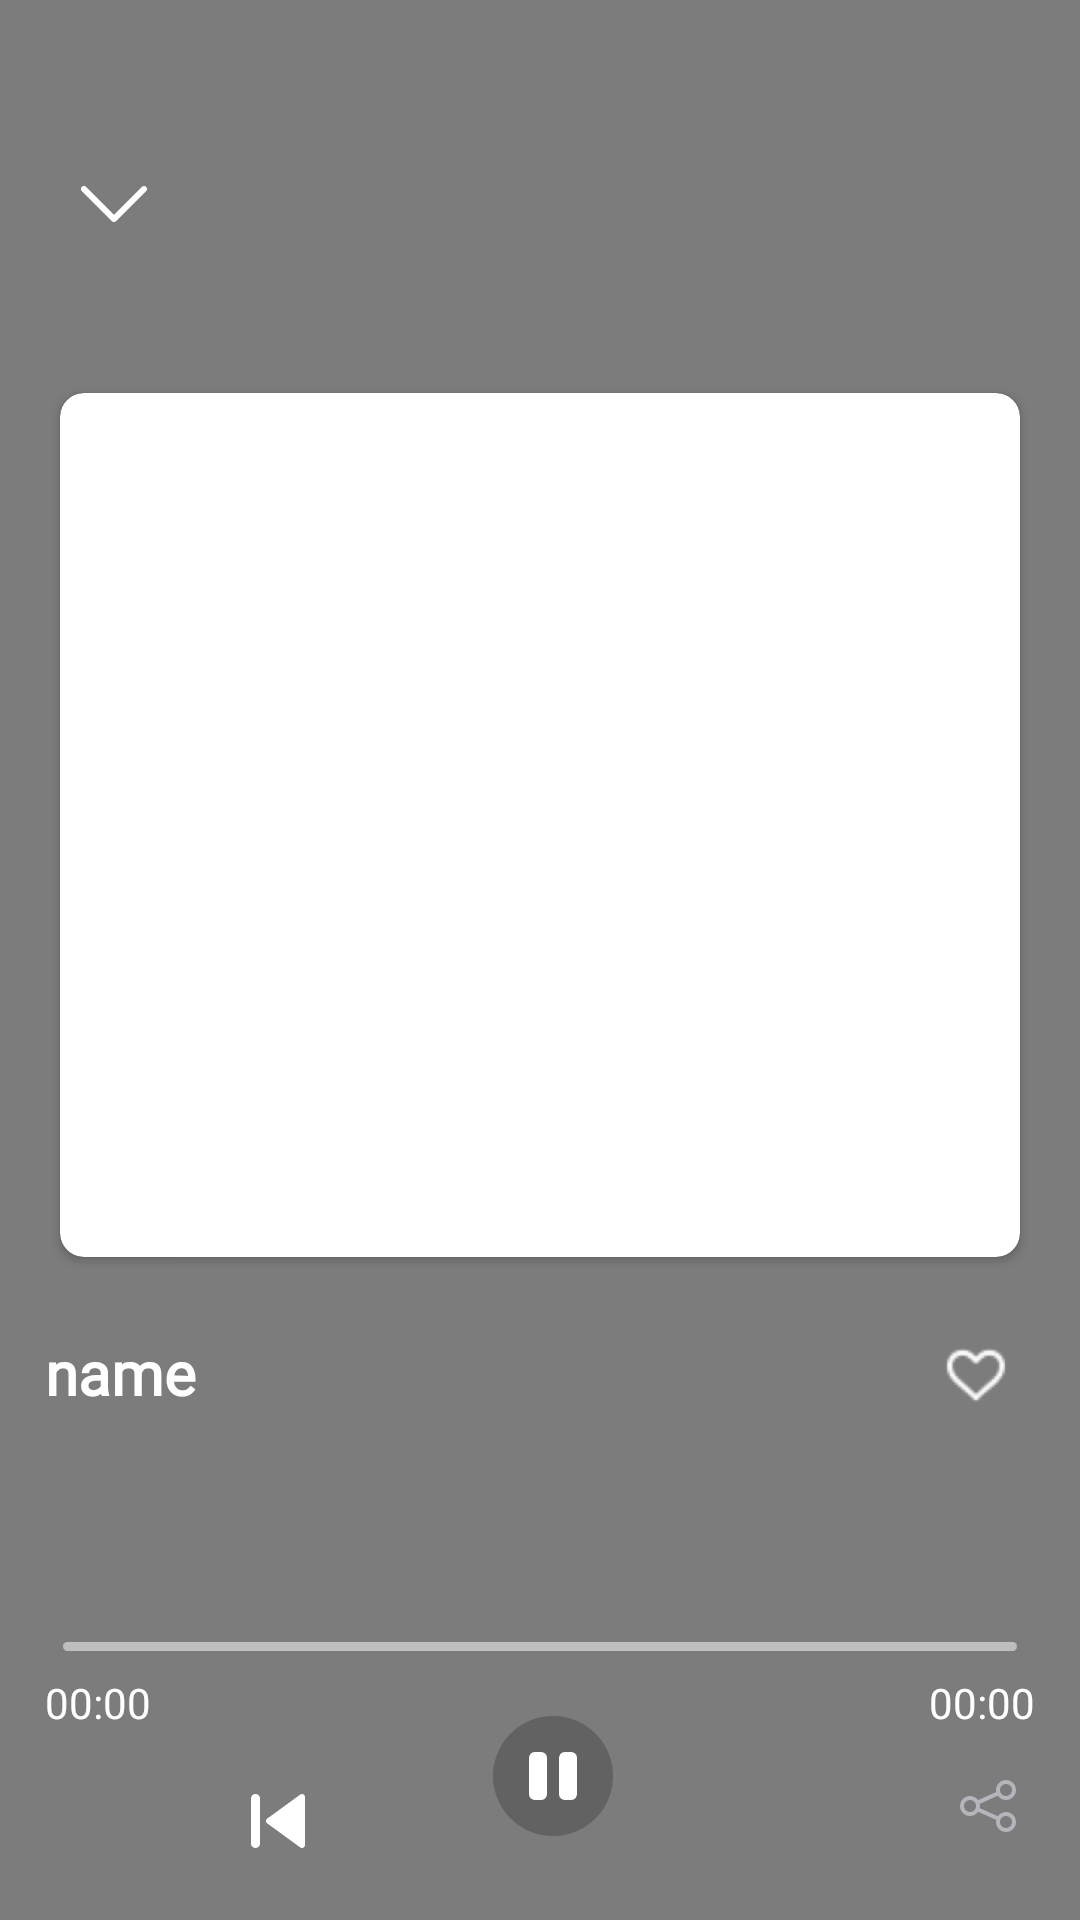

Named icons in this screenshot (1080 x 1920) and their centers, [x,y]:
come back: [278,1821]
heart: [976,1375]
play: [553,1776]
share: [988,1806]
